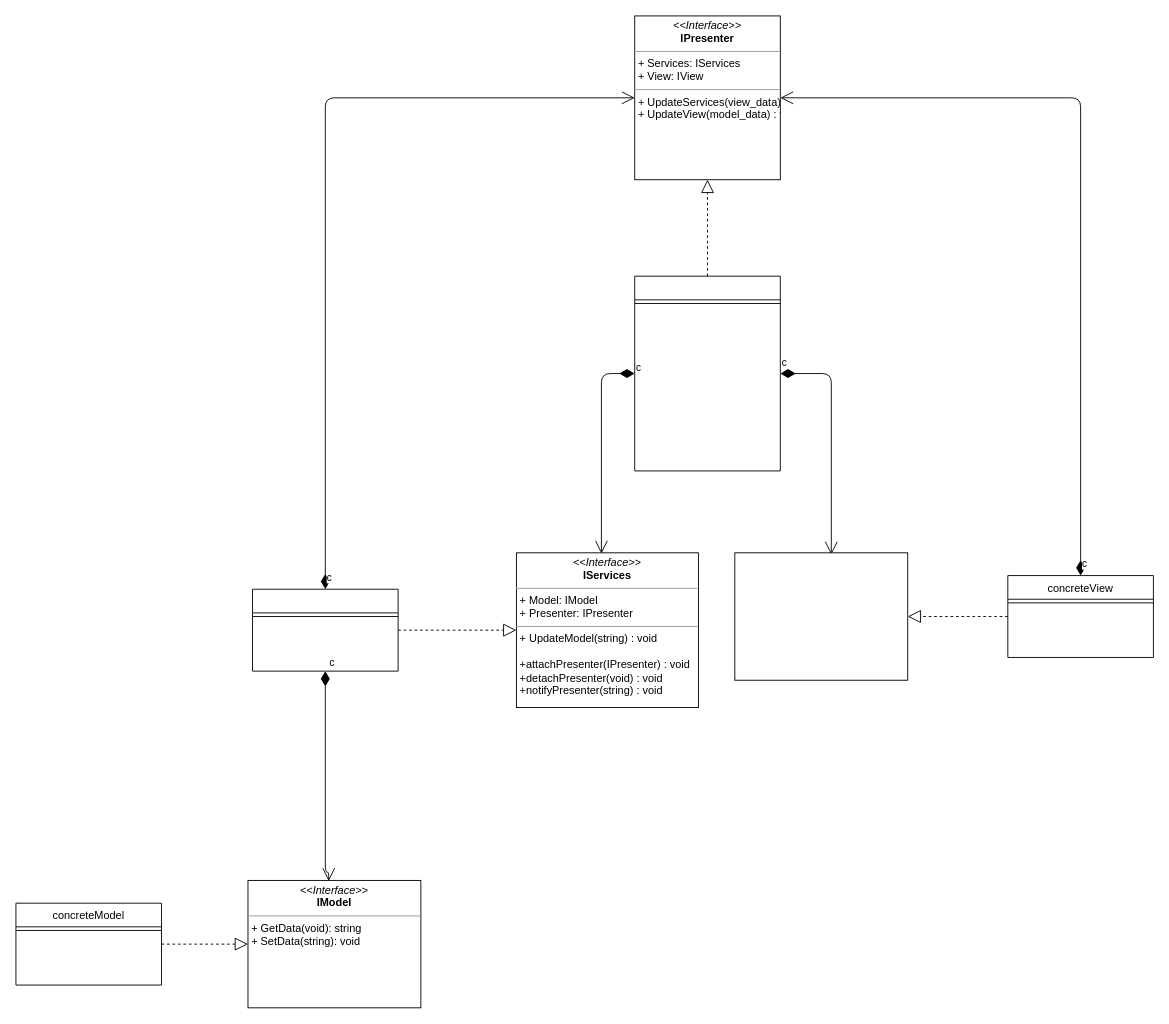
Image size: 1169x1024. Some labels were removed from this diagram. Here are the shapes that lost their labels. From the top down, the box of each, then its label:
(634, 275, 780, 471): concretePresenter
(252, 588, 398, 671): concreteServices
(734, 552, 908, 680): <<Interface>> I View + Presenter: IPresenter + UpdateModel(string) : void
